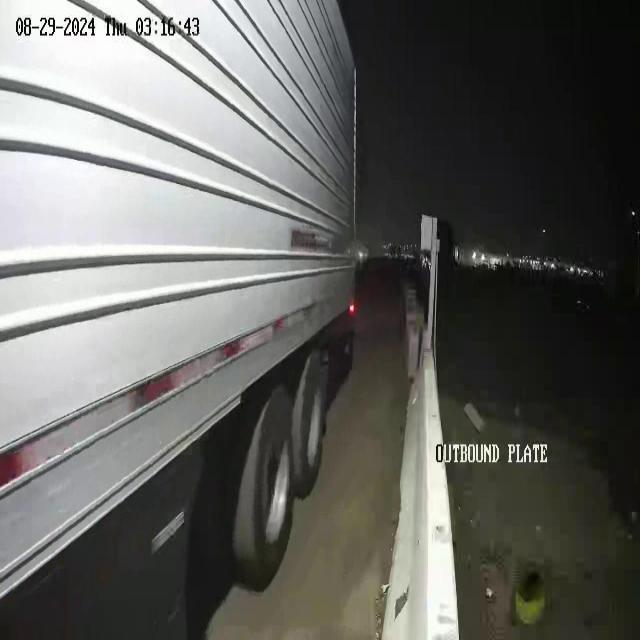TRUCK_OUT: (1, 1, 361, 634)
